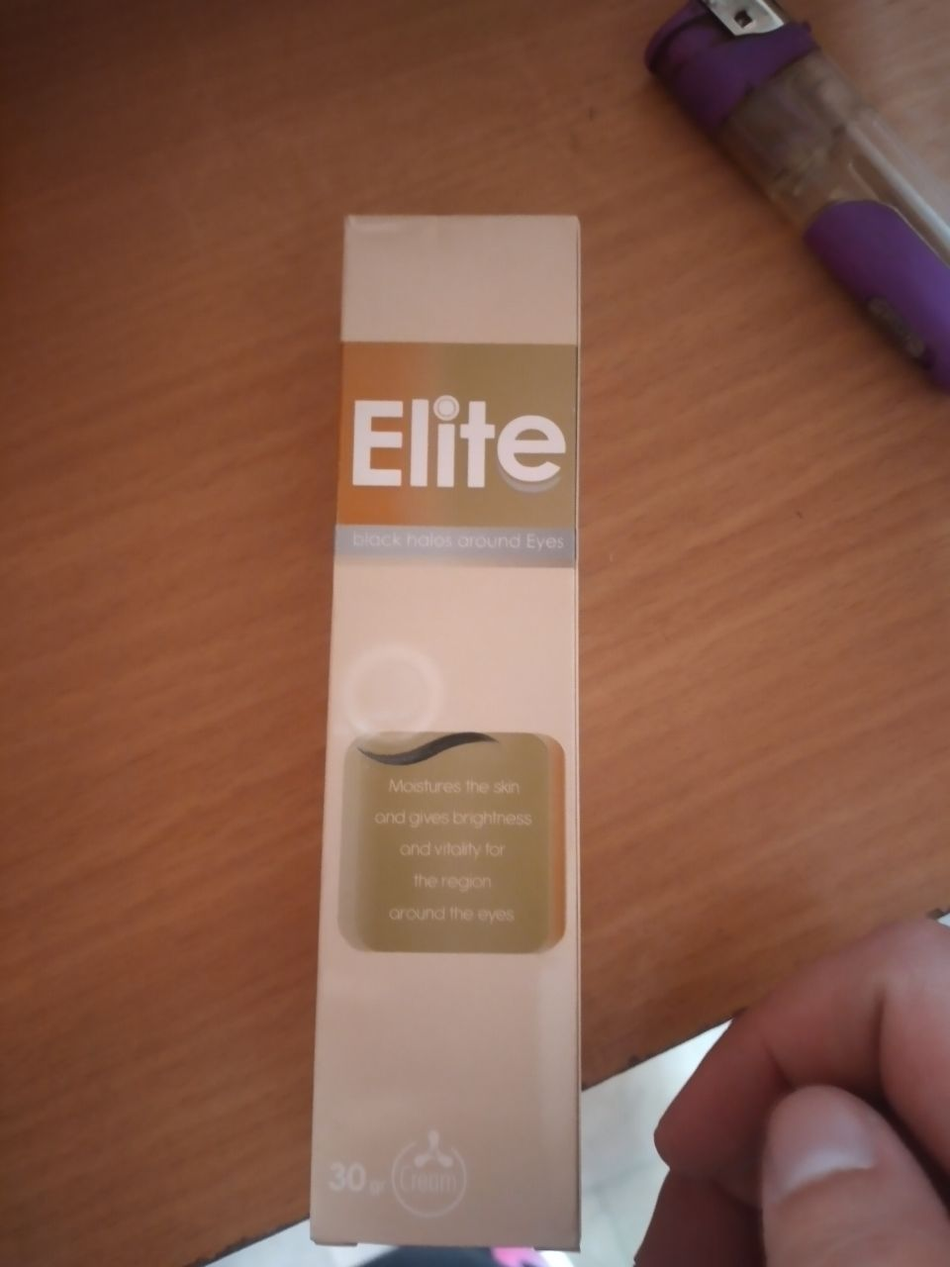Medicine: (320, 205, 584, 1254)
